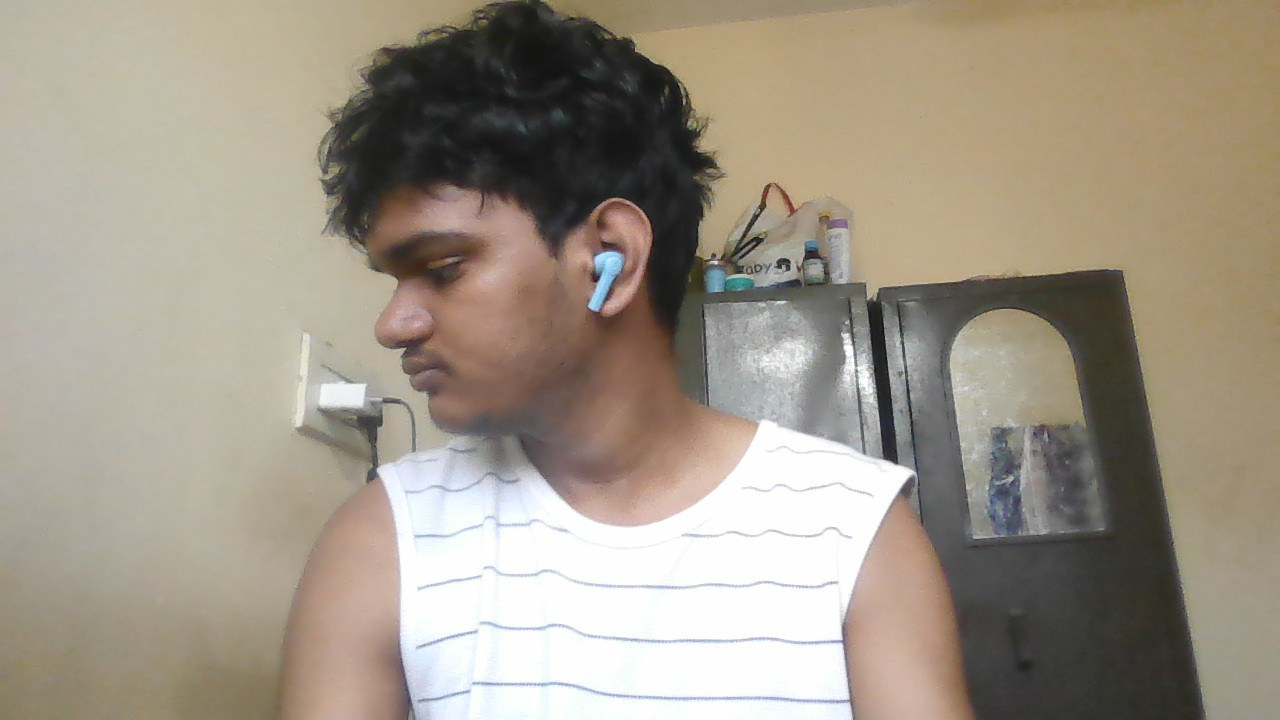earphone: (588, 246, 627, 309)
